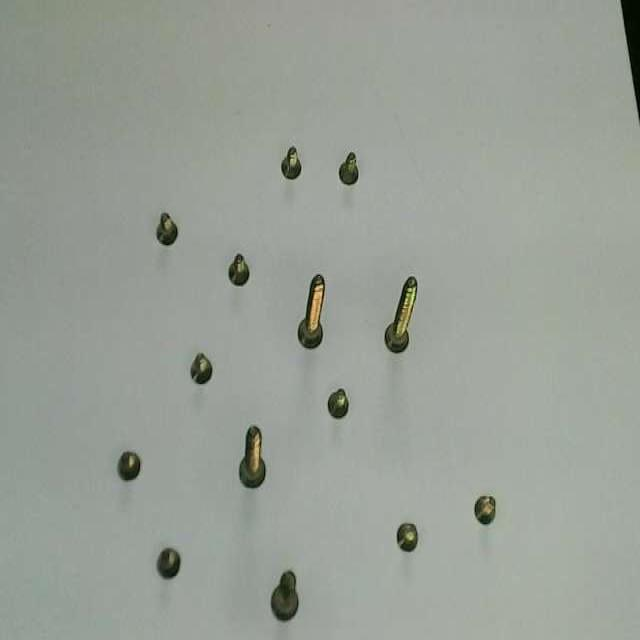Parafuso: (385, 276, 416, 353), (298, 275, 324, 347), (239, 426, 265, 487), (271, 571, 298, 621), (156, 212, 177, 245), (157, 548, 180, 578), (228, 254, 249, 286), (118, 451, 140, 481), (281, 147, 301, 179), (339, 152, 358, 185), (190, 354, 211, 383), (474, 496, 495, 525), (328, 388, 348, 418), (397, 523, 417, 551)
